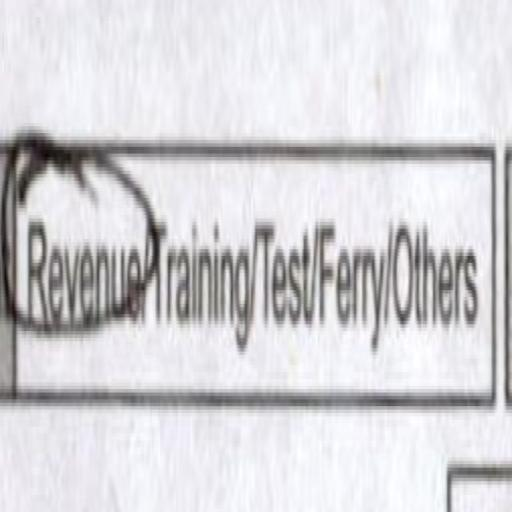check: (22, 93, 146, 429)
